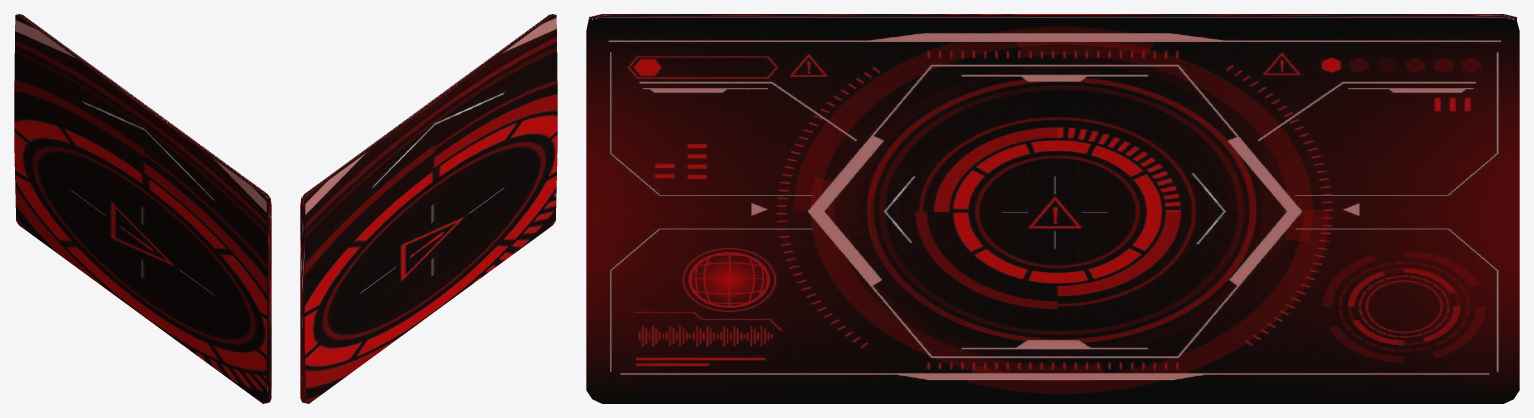
Rendered from HUD.fbx.
The picture shows the model from 3 angles, left to right: view 1: azimuth 30°, elevation 25°; view 2: azimuth 150°, elevation 25°; view 3: azimuth 270°, elevation 25°; orthographic projection. The views are drawn at different scales.
Parts seen in each view (by area): view 1: AlertHUD1; view 2: AlertHUD1; view 3: AlertHUD1.
Boxes of the visible parts, x1,y1,x2,y2 form: AlertHUD1: (14, 14, 271, 403); AlertHUD1: (300, 14, 557, 403); AlertHUD1: (586, 14, 1519, 403).
Size of the model in its own units: 2.96 by 145 by 317.
1 material, 1 textured.
